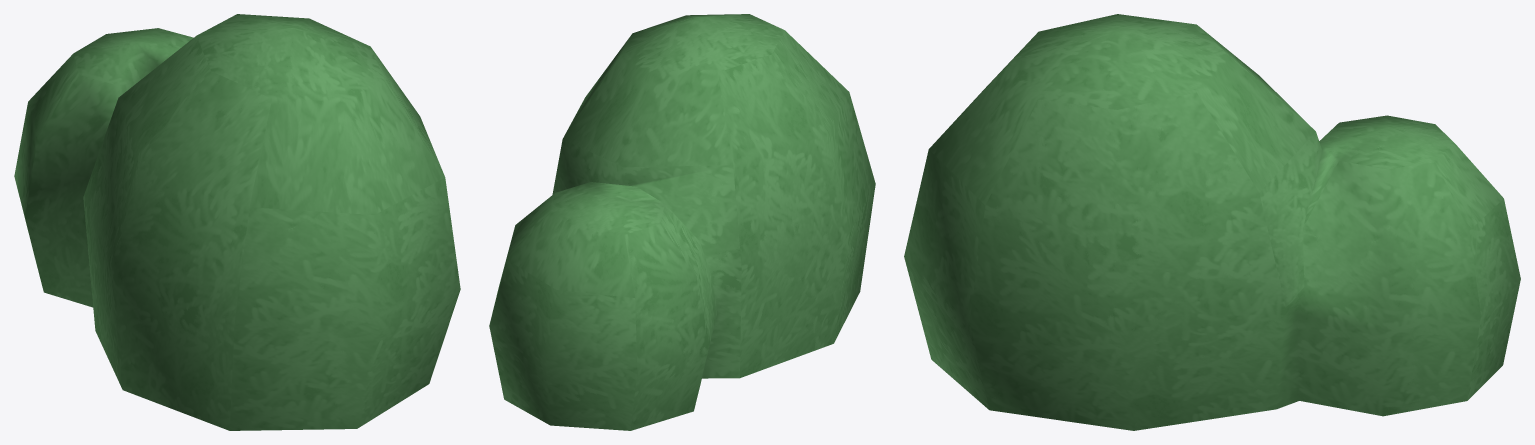
Rendered from Bush.fbx.
3 views of the same model, side by side, from view 1: azimuth 30°, elevation 25°; view 2: azimuth 150°, elevation 25°; view 3: azimuth 270°, elevation 25° (orthographic). The views are drawn at different scales.
Visible parts, largest first — view 1: pSphere3; view 2: pSphere3; view 3: pSphere3.
Boxes of the visible parts, x1=… form: pSphere3: x1=14, y1=14, x2=460, y2=430; pSphere3: x1=489, y1=14, x2=875, y2=430; pSphere3: x1=904, y1=14, x2=1520, y2=430.
Size of the model in its own units: 120 by 117 by 193.
1 material, 1 textured.
